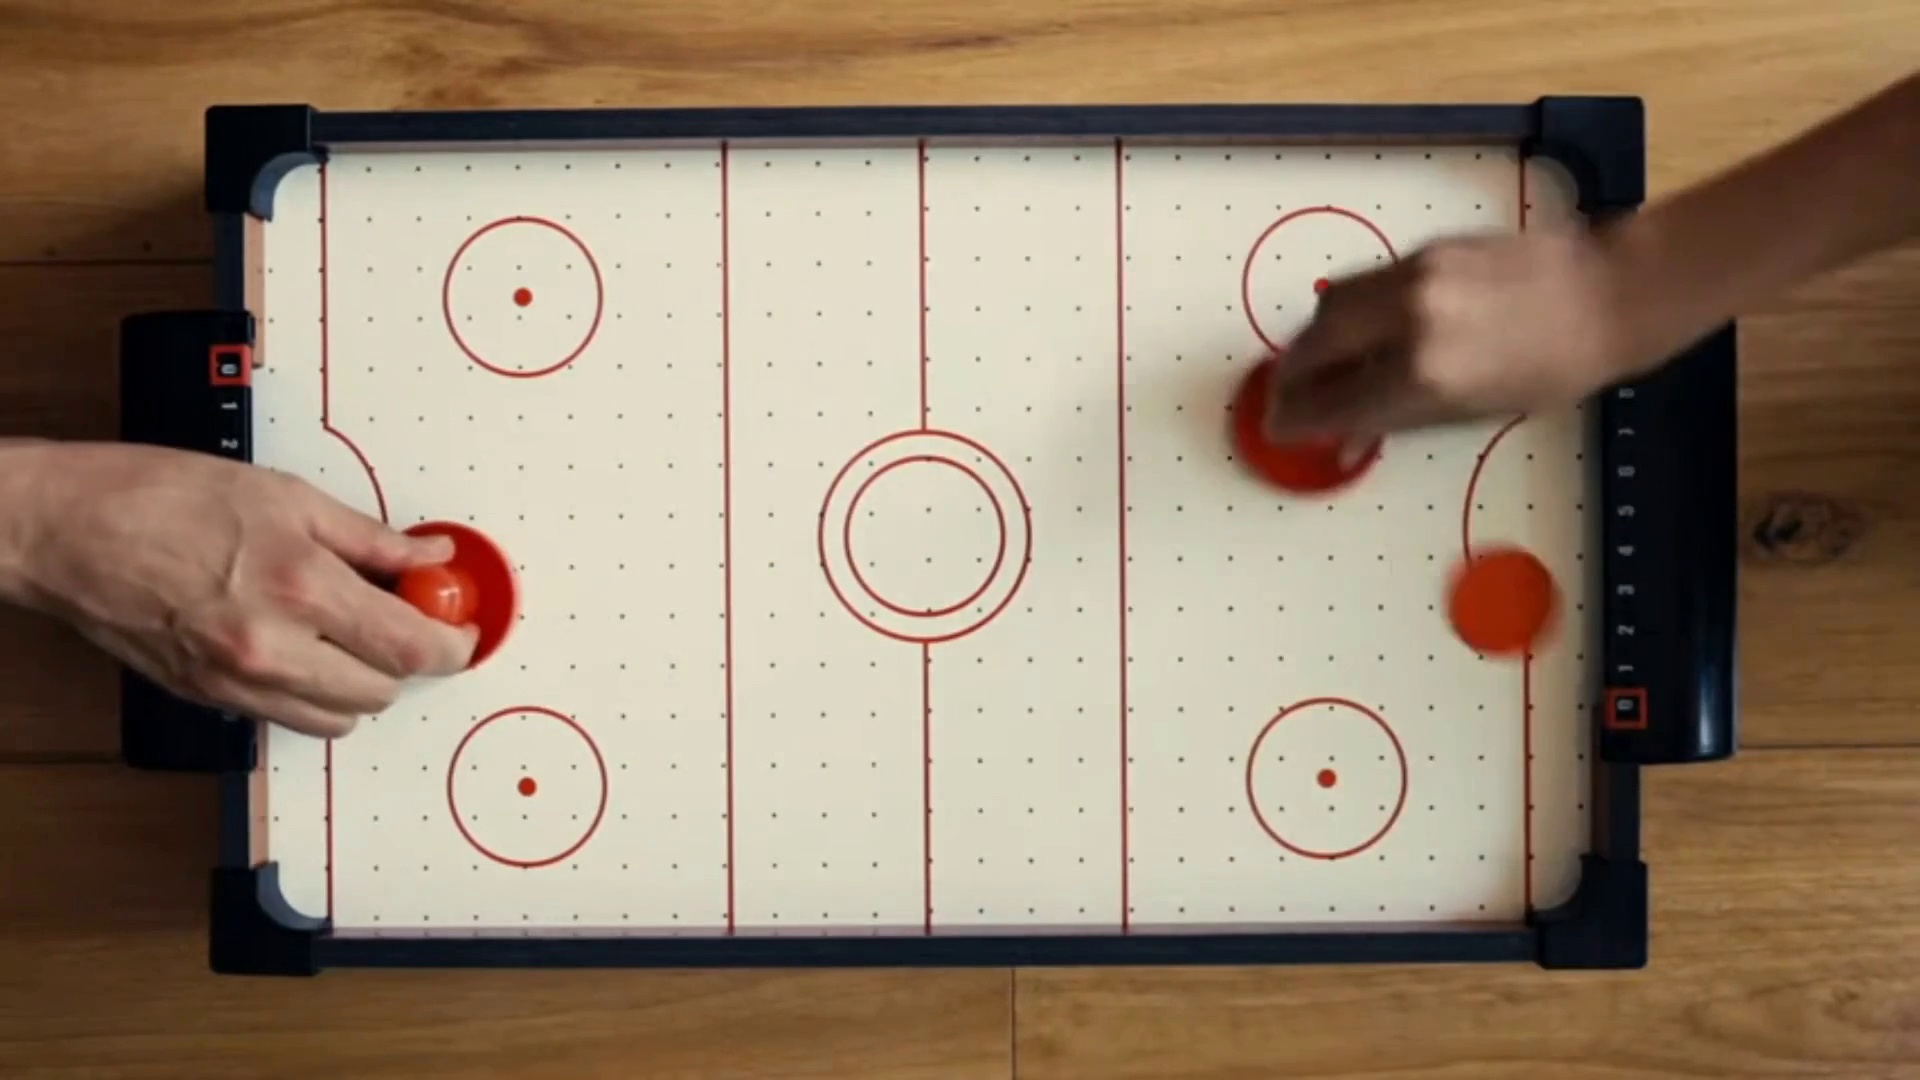player1: (375, 520, 517, 677)
player2: (1232, 348, 1374, 499)
puck: (1446, 545, 1556, 660)
table: (261, 151, 1581, 927)
